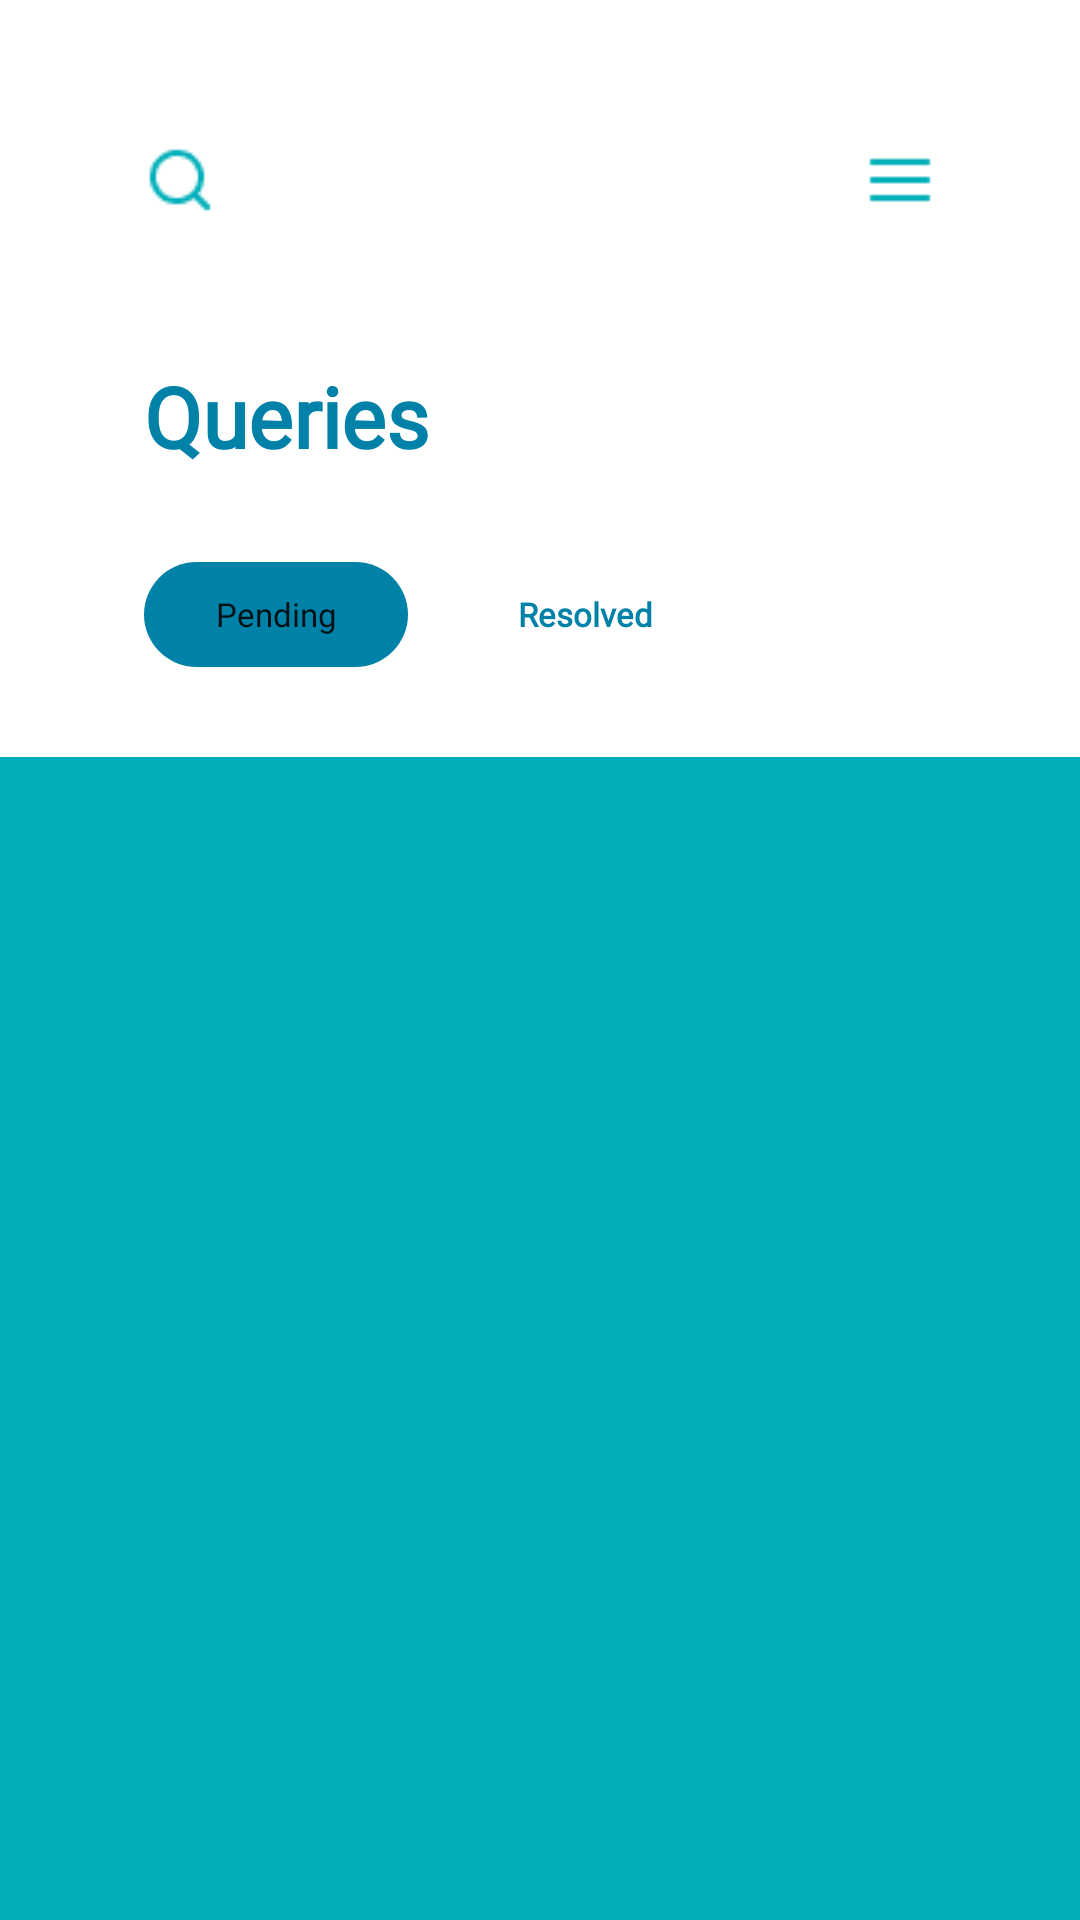

Where icons sit on this 1080w x 1920h app screen, as detection(x1, y1, x2, y2):
menu: detection(869, 158, 931, 202)
search: detection(149, 149, 211, 211)
